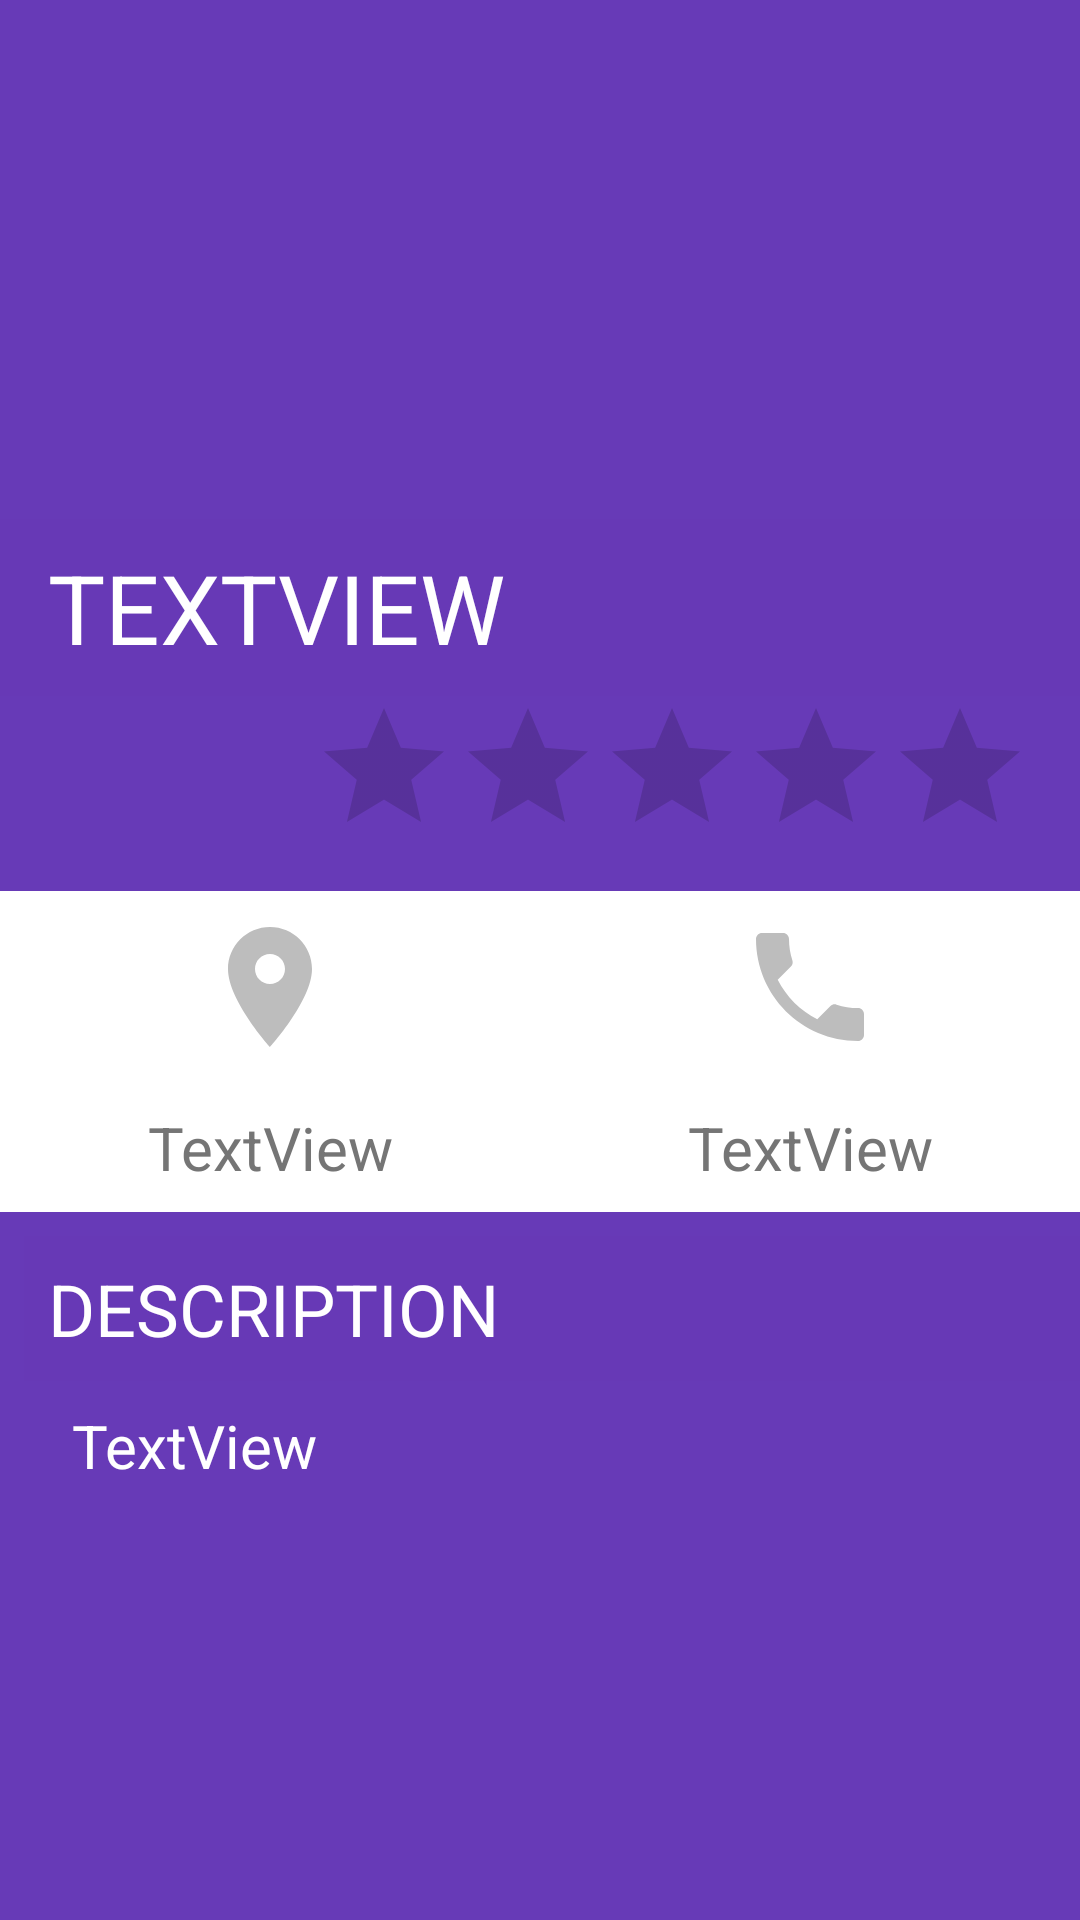

Icons on this 1080w x 1920h Android screen, each with the point to tap as (x=x, y=y):
location on: (x=270, y=987)
phone: (x=810, y=987)
